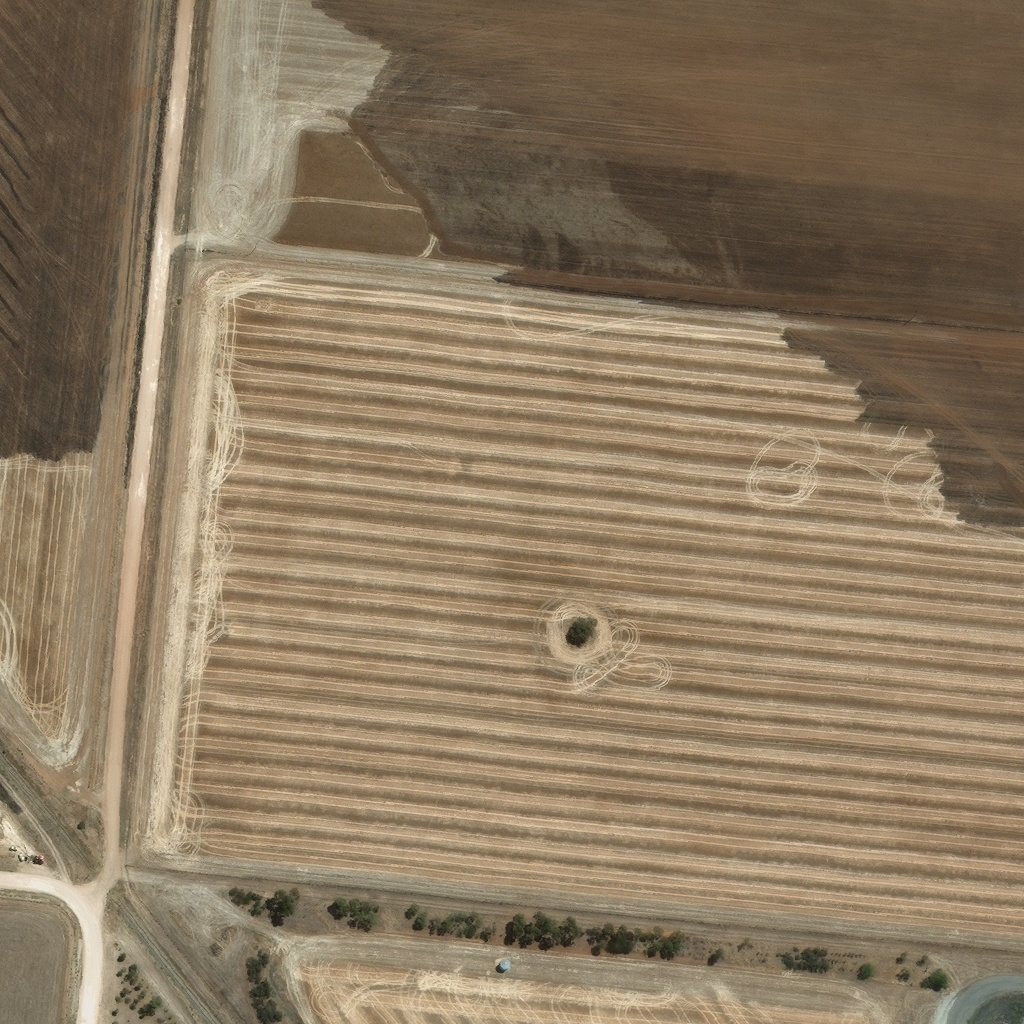4 un-classified: (175, 744, 185, 754)
